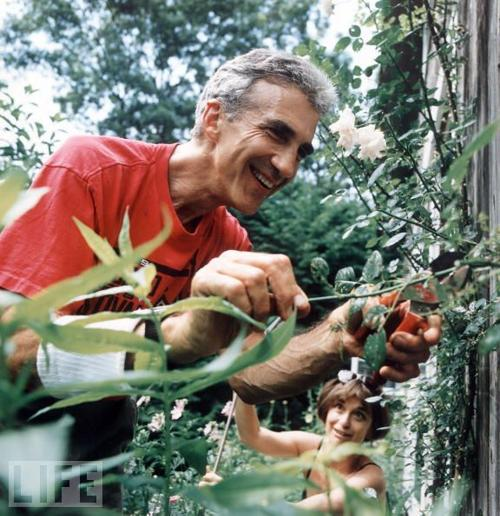person: (1, 48, 444, 405)
